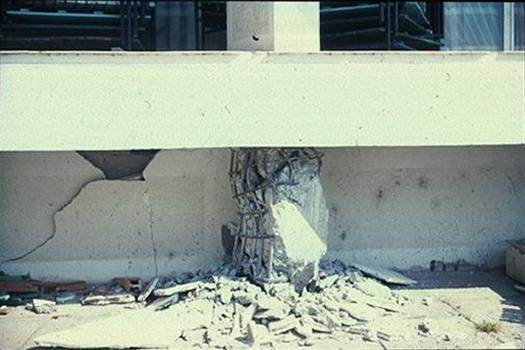spalling: (230, 150, 321, 277), (79, 150, 156, 179), (222, 225, 238, 263)
